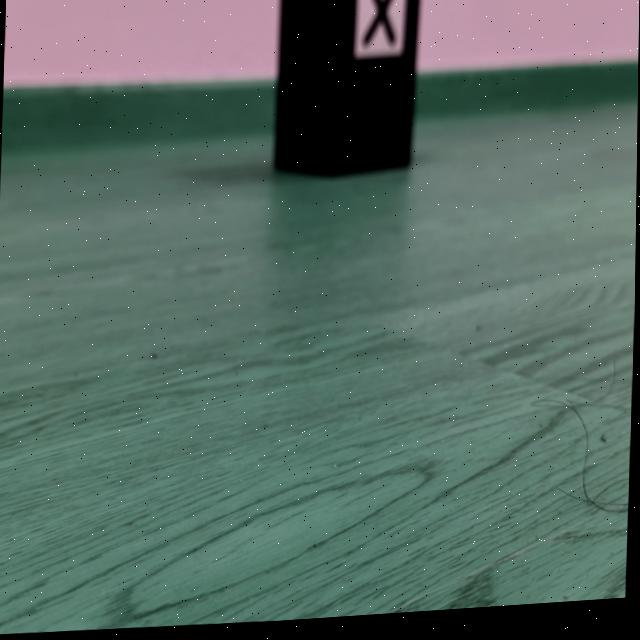X: (364, 0, 393, 49)
